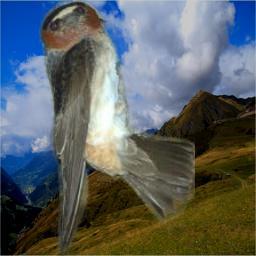Swallow: (39, 0, 195, 256)
